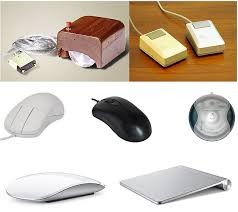mouse: (2, 86, 67, 144), (5, 169, 105, 206), (90, 96, 156, 142)
